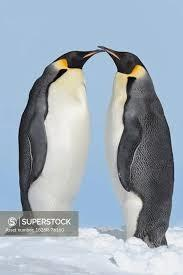emporer: (6, 41, 107, 230), (96, 45, 178, 245)
